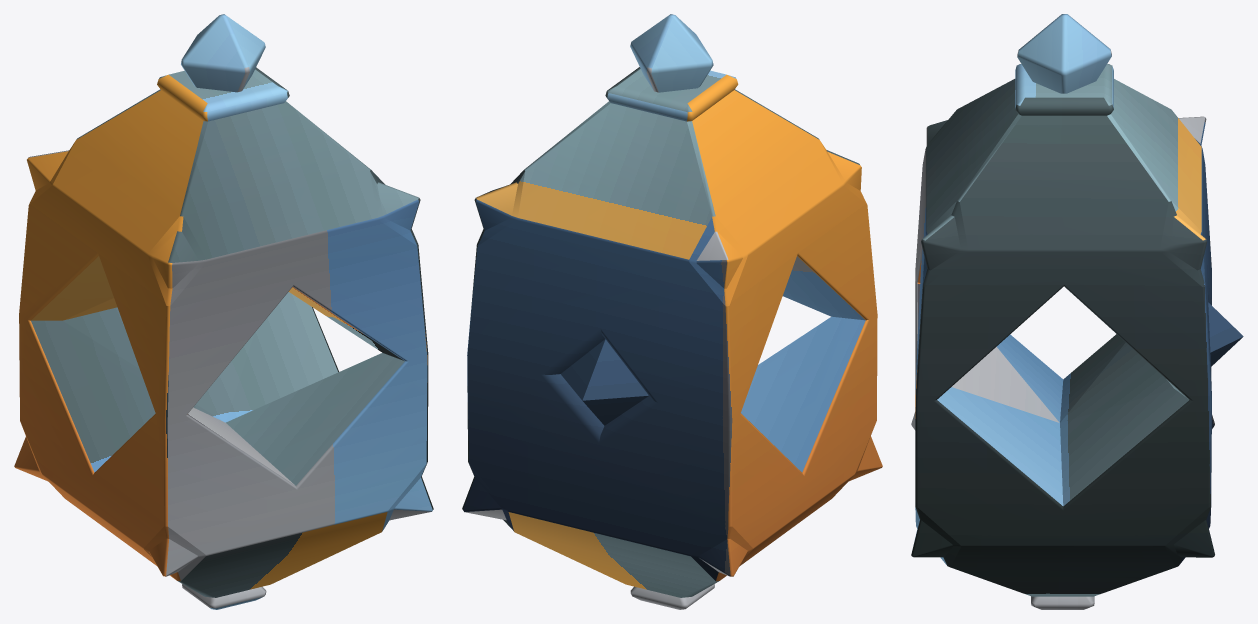
Rendered from CharSkyKid_Prop_AP17UltimateMemoryBook.glb.
3 renders of one model, left to right at view 1: azimuth 30°, elevation 25°; view 2: azimuth 150°, elevation 25°; view 3: azimuth 270°, elevation 25°, orthographic.
Visible parts, largest first — view 1: CharSkyKid_Prop_AP17UltimateMemoryBook; view 2: CharSkyKid_Prop_AP17UltimateMemoryBook; view 3: CharSkyKid_Prop_AP17UltimateMemoryBook.
Part boxes in pixels (box(x1,y1,x2,y2)): CharSkyKid_Prop_AP17UltimateMemoryBook: box(14, 14, 433, 609); CharSkyKid_Prop_AP17UltimateMemoryBook: box(462, 14, 882, 609); CharSkyKid_Prop_AP17UltimateMemoryBook: box(911, 14, 1243, 609).
Bounding box in the file's own units: 0.5511 × 1.13 × 0.5819.
Materials: 1 (1 with a texture image).
